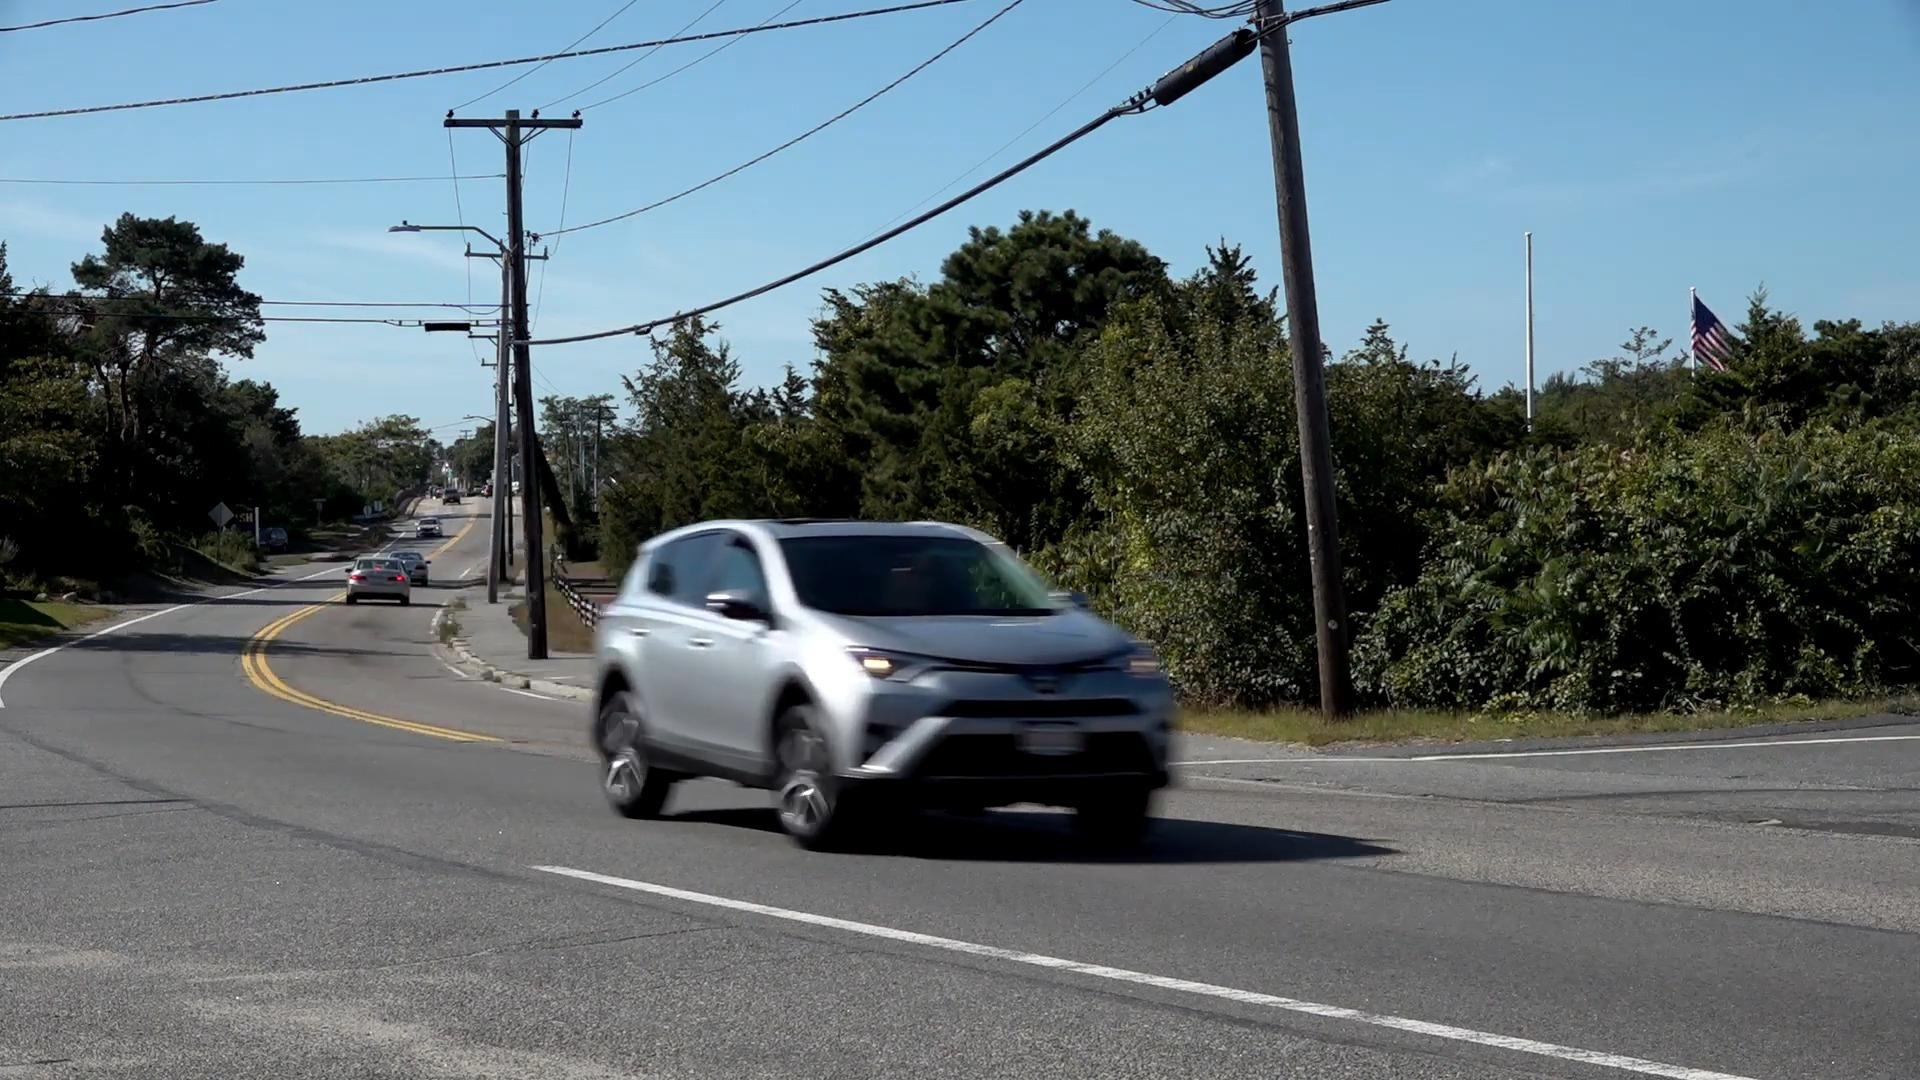suv: (596, 510, 1176, 857)
